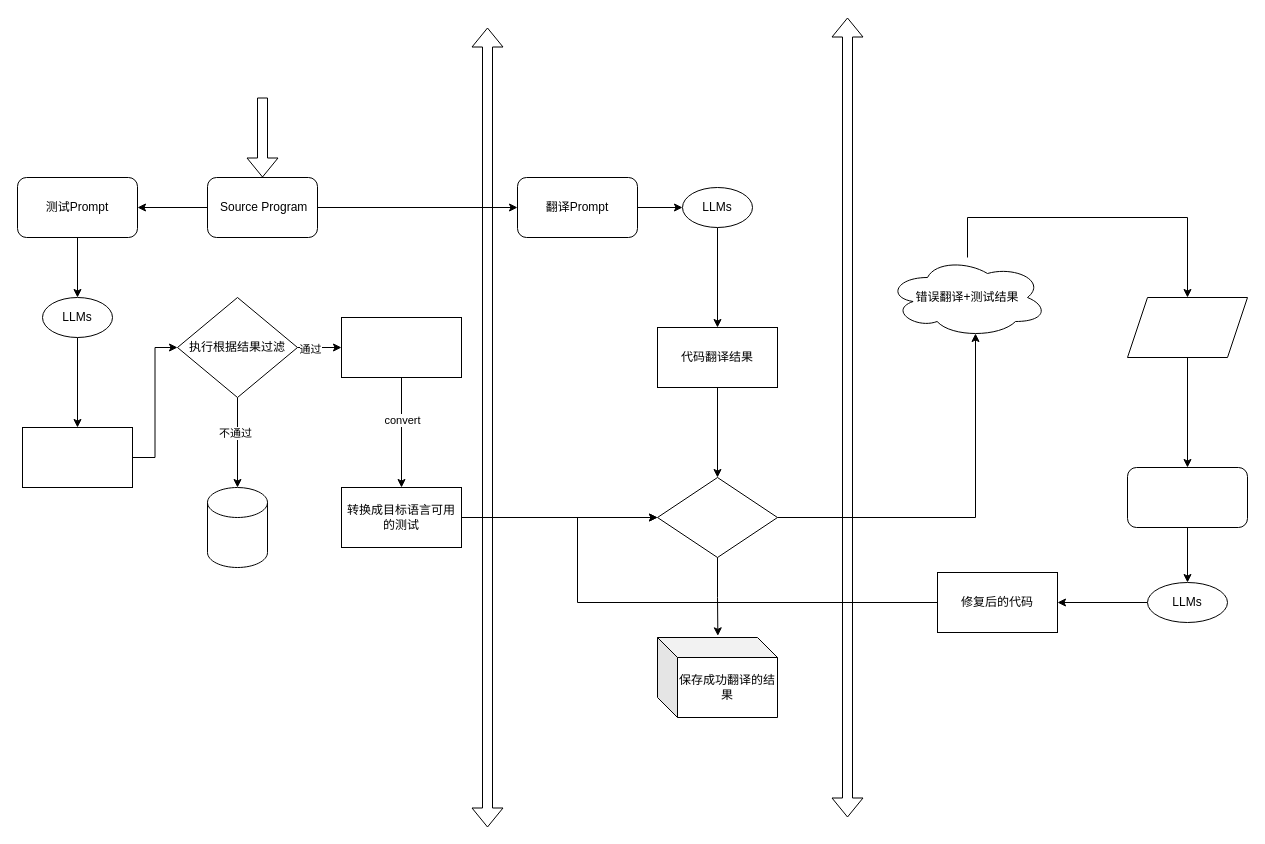
Some shapes in this 1265 by 844 pixel diagram are drawn without their labels. Here are the shapes that lost their labels. From the top down, the centre of each, then its label:
[401,347]: 可使用的测试
[1187,327]: 错误分析
[77,457]: 生成的代码测试
[717,517]: 测试结果过滤
[1187,497]: 代码修复Prompt
[237,527]: 垃圾桶
